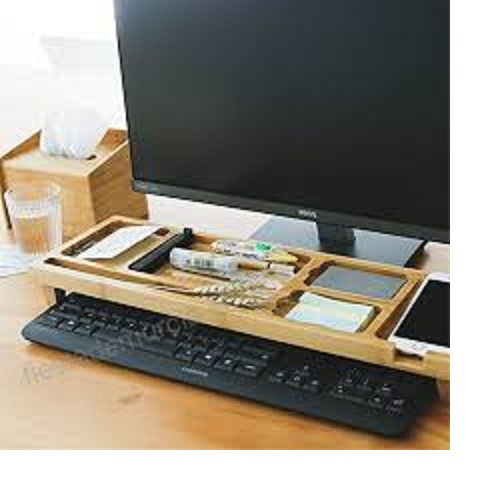Teclado: (18, 288, 444, 440)
